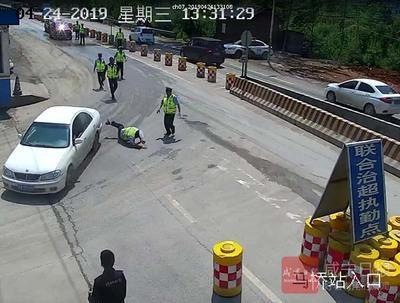Fall-Detected: (97, 114, 147, 151)
